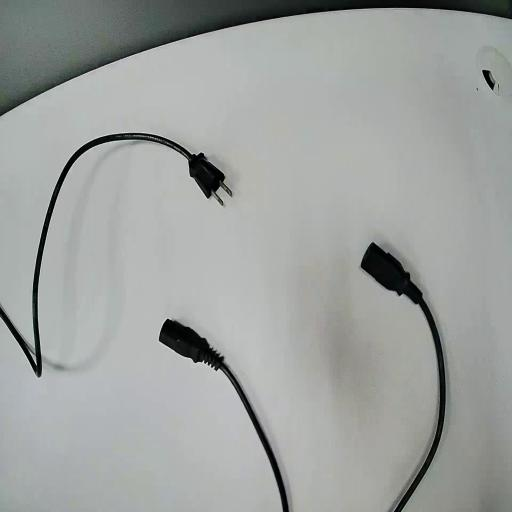wire: (0, 134, 223, 374), (160, 320, 287, 511), (361, 244, 444, 511)
